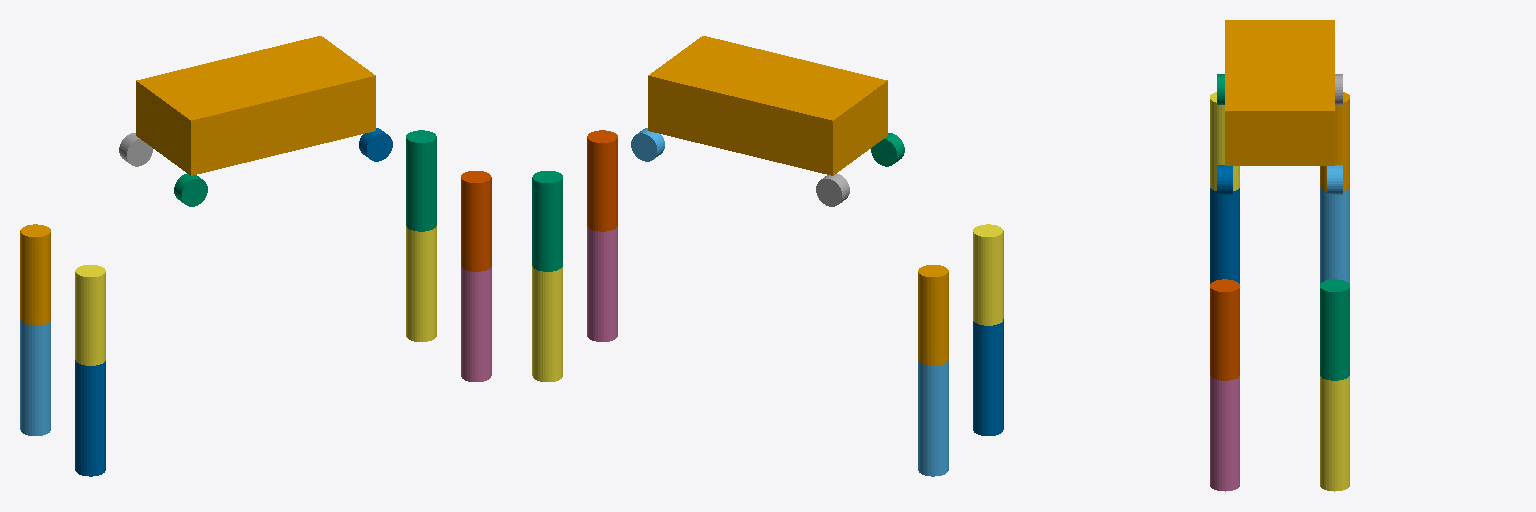
The robot description file, URDF, robot "bigironhorse":
<?xml version="1.0" ?>
<robot name="bigironhorse" xmlns:xacro="http://ros.org/wiki/xacro">



    <!--!!!!!!!!!!!!!!!!!!BODY!!!!!!!!!!!!!!!!!!!!!!!!!!!!!!!-->
    <link name="body">
        <inertial>
            <mass value="70"/>
            <origin xyz="0.0 0.0 0.0"/>
            <inertia ixx="0.11253" ixy="0" ixz="0" iyy="0.36203" iyz="0" izz="0.42673"/>
        </inertial>
        <visual>
            <geometry>
                <!--mesh filename="meshes/mini_body.obj"/!!!-->
                <box size="0.7 0.36 0.2"/>
            </geometry>
            <origin rpy="0.0 0.0 0.0" xyz="0.0 0.0 0.0"/>
        </visual>

    </link>



    <!--!!!!!!!!!!!! Front Left Leg !!!!!!!!!!!!!!!!!!!!!!!!!!!!!!!!!!!!-->
    <joint name="torso_to_abduct_fl_j" type="continuous">
        <axis xyz="1 0 0"/>
        <origin rpy="0 0 0" xyz="0.35 0.18 -0.15"/>
        <parent link="body"/>
        <child link="abduct_fl"/>
        <limit effort="18" lower="-1.6" upper="1.6" velocity="40"/>
    </joint>
    <link name="abduct_fl">
        <inertial>
            <mass value="1.5"/>
            <origin xyz="0.0 0.0 0."/>
            <inertia ixx="0.000381" ixy="0.000058" ixz="0.00000045" 
                iyy="0.000560" iyz="0.00000095" izz="0.000444"/>
        </inertial>
        <visual>
            <geometry>
                <cylinder length ="0.05" radius = "0.05"/>
            </geometry>
            <origin rpy="0. 1.5708 -1.5708" xyz="0.0 0.0 0.0"/>
        </visual>
        
    </link>

    <joint name="abduct_fl_to_thigh_fl_j" type="continuous">
        <axis xyz="0 -1 0"/>
        <origin rpy="0.0 0.0 0.0" xyz="0.38 0.00 -0.205"/>
        <parent link="abduct_fl"/>
        <child link="thigh_fl"/>
        <limit effort="18" lower="-2.6" upper="2.6" velocity="40"/>
    </joint>
    <link name="thigh_fl">
        <inertial>
            <mass value="1.5"/>
            <origin xyz="0.0 0.00 -0.16"/>
            <inertia ixx="0.001983" ixy="0.000245" ixz="0.000013" 
                iyy="0.002103" iyz="0.0000015" izz="0.000508"/>
        </inertial>
        <visual>
            <geometry>
                <cylinder length ="0.32" radius = "0.05"/>
            </geometry>
            <origin rpy="0.0 0.0 0.0" xyz="0.0 0.0 -0.16"/>
        </visual>
        
    </link>

    <joint name="thigh_fl_to_knee_fl_j" type="continuous">
        <axis xyz="0 -1 0"/>
        <origin rpy="0.0 0 0.0" xyz="0.0 0.0 -0.32"/>
        <parent link="thigh_fl"/>
        <child link="shank_fl"/>
        <limit effort="26" lower="-2.6" upper="2.6" velocity="26"/>
    </joint>
    <link name="shank_fl">
        <inertial>
            <mass value="1.5"/>
            <origin xyz="0.0 0.0 -0.2"/>
            <inertia ixx="0.000245" ixy="0" ixz="0.0" iyy="0.000248" iyz="0" izz="0.000006"/>
        </inertial>
        <visual>
            <geometry>
                <cylinder length ="0.4" radius = "0.05"/>
            </geometry>
            <origin rpy="0.0 3.141592 0.0" xyz="0.0 0.0 -0.2"/>
        </visual>
       
    </link>




    <!--!!!!!!!!!!!! Front Right Leg !!!!!!!!!!!!!!!!!!!!!!!!!!!!!!!!!!!!-->

    <!--!!!!Joint!!!!!!!!!!!!-->
    <joint name="torso_to_abduct_fr_j" type="continuous">
        <axis xyz="1 0 0"/>
        <origin rpy="0 0 0" xyz="0.35 -0.18 -0.15"/>
        <parent link="body"/>
        <child link="abduct_fr"/>
        <limit effort="18" lower="-1.6" upper="1.6" velocity="40"/>
    </joint>
    <link name="abduct_fr">
        <inertial>
            <mass value="1.5"/>
            <origin xyz="0.0 0.0 0."/>
            <inertia ixx="0.000381" ixy="0.000058" ixz="0.00000045" 
                iyy="0.000560" iyz="0.00000095" izz="0.000444"/>
        </inertial>
        <visual>
            <geometry>
                <cylinder length ="0.05" radius = "0.05"/>
            </geometry>
            <origin rpy="3.141592 1.5708 1.5708" xyz="0.0 0.0 0.0"/>
        </visual>
       
    </link>

    <joint name="abduct_fr_to_thigh_fr_j" type="continuous">
        <axis xyz="0 -1 0"/>
        <origin rpy="0.0 0.0 0.0" xyz="0.38 0.00 -0.205"/>
        <parent link="abduct_fr"/>
        <child link="thigh_fr"/>
        <limit effort="18" lower="-2.6" upper="2.6" velocity="40"/>
    </joint>
    <link name="thigh_fr">
        <inertial>
            <mass value="1.5"/>
            <origin xyz="0.0 0.0 -0.16"/>
            <inertia ixx="0.001983" ixy="0.000245" ixz="0.000013" 
                iyy="0.002103" iyz="0.0000015" izz="0.000508"/>
        </inertial>
        <visual>
            <geometry>
                <cylinder length ="0.32" radius = "0.05"/>
            </geometry>
            <origin rpy="0.0 0.0 0.0" xyz="0.0 0.0 -0.16"/>
        </visual>
        
    </link>

    <joint name="thigh_fr_to_knee_fr_j" type="continuous">
        <axis xyz="0 -1 0"/>
        <origin rpy="0.0 0 0.0" xyz="0.0 0.0 -0.32"/>
        <parent link="thigh_fr"/>
        <child link="shank_fr"/>
        <limit effort="26" lower="-2.6" upper="2.6" velocity="26"/>
    </joint>
    <link name="shank_fr">
        <inertial>
            <mass value="1.5"/>
            <origin xyz="0.0 0.0 -0.2"/>
            <inertia ixx="0.000245" ixy="0" ixz="0.0" iyy="0.000248" iyz="0" izz="0.000006"/>
        </inertial>
        <visual>
            <geometry>
                <cylinder length ="0.4" radius = "0.05"/>
            </geometry>
            <origin rpy="0.0 3.141592 0.0" xyz="0.0 0.0 -0.2"/>
        </visual>
        
    </link>





    <!--!!!!!!!!!!!! Hind Left Leg !!!!!!!!!!!!!!!!!!!!!!!!!!!!!!!!!!!!-->
    <joint name="torso_to_abduct_hl_j" type="continuous">
        <axis xyz="1 0 0"/>
        <origin rpy="0 0 0" xyz="-0.35 0.18 -0.15"/>
        <parent link="body"/>
        <child link="abduct_hl"/>
        <limit effort="18" lower="-1.6" upper="1.6" velocity="40"/>
    </joint>
    <link name="abduct_hl">
        <inertial>
            <mass value="1.5"/>
            <origin xyz="0.0 0.0 0."/>
            <inertia ixx="0.000381" ixy="0.000058" ixz="0.00000045" 
                iyy="0.000560" iyz="0.00000095" izz="0.000444"/>
        </inertial>
        <visual>
            <geometry>
                <cylinder length ="0.05" radius = "0.05"/>
            </geometry>
            <origin rpy="3.141592 1.5708 -1.5708" xyz="0.0 0.0 0.0"/>
        </visual>
        
    </link>

    <joint name="abduct_hl_to_thigh_hl_j" type="continuous">
        <axis xyz="0 -1 0"/>
        <origin rpy="0.0 0.0 0.0" xyz="-0.38 0.00 -0.205"/>
        <parent link="abduct_hl"/>
        <child link="thigh_hl"/>
        <limit effort="18" lower="-2.6" upper="2.6" velocity="40"/>
    </joint>
    <link name="thigh_hl">
        <inertial>
            <mass value="1.5"/>
            <origin xyz="0.0 0.0 -0.16"/>
            <inertia ixx="0.001983" ixy="0.000245" ixz="0.000013" 
                iyy="0.002103" iyz="0.0000015" izz="0.000508"/>
        </inertial>
        <visual>
            <geometry>
                <cylinder length ="0.32" radius = "0.05"/>
            </geometry>
            <origin rpy="0.0 0.0 0.0" xyz="0.0 0.0 -0.16"/>
        </visual>
        
    </link>

    <joint name="thigh_hl_to_knee_hl_j" type="continuous">
        <axis xyz="0 -1 0"/>
        <origin rpy="0.0 0 0.0" xyz="0.0 0.0 -0.32"/>
        <parent link="thigh_hl"/>
        <child link="shank_hl"/>
        <limit effort="26" lower="-2.6" upper="2.6" velocity="26"/>
    </joint>
    <link name="shank_hl">
        <inertial>
            <mass value="1.5"/>
            <origin xyz="0.0 0.0 -0.2"/>
            <inertia ixx="0.000245" ixy="0" ixz="0.0" iyy="0.000248" iyz="0" izz="0.000006"/>
        </inertial>
        <visual>
            <geometry>
                <cylinder length ="0.4" radius = "0.05"/>
            </geometry>
            <origin rpy="0.0 3.141592 0.0" xyz="0.0 0.0 -0.2"/>
        </visual>
        
    </link>



    <!--!!!!!!!!!!!! Hind Right Leg !!!!!!!!!!!!!!!!!!!!!!!!!!!!!!!!!!!!-->
    <joint name="torso_to_abduct_hr_j" type="continuous">
        <axis xyz="1 0 0"/>
        <origin rpy="0 0 0" xyz="-0.35 -0.18 -0.15"/>
        <parent link="body"/>
        <child link="abduct_hr"/>
        <limit effort="18" lower="-1.6" upper="1.6" velocity="40"/>
    </joint>
    <link name="abduct_hr">
        <inertial>
            <mass value="1.5"/>
            <origin xyz="0.0 0.0 0."/>
            <inertia ixx="0.000381" ixy="0.000058" ixz="0.00000045" 
                iyy="0.000560" iyz="0.00000095" izz="0.000444"/>
        </inertial>
        <visual>
            <geometry>
                <cylinder length ="0.05" radius = "0.05"/>
            </geometry>
            <!--origin rpy="0.0 0.0 1.5708" xyz="0.055 0.0 0.0"/-->
            <origin rpy="0.0 1.5708 1.5708" xyz="0.0 0.0 0.0"/>
        </visual>
        
    </link>

    <joint name="abduct_hr_to_thigh_hr_j" type="continuous">
        <axis xyz="0 -1 0"/>
        <origin rpy="0.0 0.0 0.0" xyz="-0.38 0.00 -0.205"/>
        <parent link="abduct_hr"/>
        <child link="thigh_hr"/>
        <limit effort="18" lower="-2.6" upper="2.6" velocity="40"/>
    </joint>
    <link name="thigh_hr">
        <inertial>
            <mass value="1.5"/>
            <origin xyz="0.0 0.0 -0.16"/>
            <inertia ixx="0.001983" ixy="0.000245" ixz="0.000013" 
                iyy="0.002103" iyz="0.0000015" izz="0.000508"/>
        </inertial>
        <visual>
            <geometry>
                <cylinder length ="0.32" radius = "0.05"/>
            </geometry>
            <origin rpy="0.0 0.0 0.0" xyz="0.0 0.0 -0.16"/>
        </visual>
        
    </link>

    <joint name="thigh_hr_to_knee_hr_j" type="continuous">
        <axis xyz="0 -1 0"/>
        <origin rpy="0.0 0 0.0" xyz="0.0 0.0 -0.32"/>
        <parent link="thigh_hr"/>
        <child link="shank_hr"/>
        <limit effort="26" lower="-2.6" upper="2.6" velocity="26"/>
    </joint>
    <link name="shank_hr">
        <inertial>
            <mass value="1.5"/>
            <origin xyz="0.0 0.0 -0.2"/>
            <inertia ixx="0.000245" ixy="0" ixz="0.0" iyy="0.000248" iyz="0" izz="0.000006"/>
        </inertial>
        <visual>
            <geometry>
                <cylinder length ="0.4" radius = "0.05"/>
            </geometry>
            <origin rpy="0.0 3.141592 0.0" xyz="0.0 0.0 -0.2"/>
        </visual>
        

    </link>

    <!-- Add foot links to enable relevent computations, including better collision detection -->
    <joint name="shank_fl_to_foot_fl" type="fixed">
        <parent link="shank_fl"/>
        <child link="LF_FOOT"/>
        <origin rpy="0.0 0.0 0.0" xyz="0.0 0.0 -0.372"/>
    </joint>
    <link name="LF_FOOT">
        <collision>
            <geometry>
                <sphere radius = "0.0175"/>
            </geometry>
            <origin rpy="0.0 0.0 0.0" xyz="0.0 0.0 0.0"/>
        </collision>
        <visual>
            <geometry>
                <sphere radius = "0.0175"/>
            </geometry>
            <origin rpy="0.0 0.0 0.0" xyz="0.0 0.0 0.0"/>
        </visual>
    </link>

    <joint name="shank_fr_to_foot_fr" type="fixed">
        <parent link="shank_fr"/>
        <child link="RF_FOOT"/>
        <origin rpy="0.0 0.0 0.0" xyz="0.0 0.0 -0.372"/>
    </joint>
    <link name="RF_FOOT">
        <collision>
            <geometry>
                <sphere radius = "0.0175"/>
            </geometry>
            <origin rpy="0.0 0.0 0.0" xyz="0.0 0.0 0.0"/>
        </collision>
        <visual>
            <geometry>
                <sphere radius = "0.0175"/>
            </geometry>
            <origin rpy="0.0 0.0 0.0" xyz="0.0 0.0 0.0"/>
        </visual>
    </link>

    <joint name="shank_hl_to_foot_hl" type="fixed">
        <parent link="shank_hl"/>
        <child link="LH_FOOT"/>
        <origin rpy="0.0 0.0 0.0" xyz="0.0 0.0 -0.372"/>
    </joint>
    <link name="LH_FOOT">
        <collision>
            <geometry>
                <sphere radius = "0.0175"/>
            </geometry>
            <origin rpy="0.0 0.0 0.0" xyz="0.0 0.0 0.0"/>
        </collision>
        <visual>
            <geometry>
                <sphere radius = "0.0175"/>
            </geometry>
            <origin rpy="0.0 0.0 0.0" xyz="0.0 0.0 0.0"/>
        </visual>
    </link>

    <joint name="shank_hr_to_foot_hr" type="fixed">
        <parent link="shank_hr"/>
        <child link="RH_FOOT"/>
        <origin rpy="0.0 0.0 0.0" xyz="0.0 0.0 -0.372"/>
    </joint>
    <link name="RH_FOOT">
        <collision>
            <geometry>
                <sphere radius = "0.0175"/>
            </geometry>
            <origin rpy="0.0 0.0 0.0" xyz="0.0 0.0 0.0"/>
        </collision>
        <visual>
            <geometry>
                <sphere radius = "0.0175"/>
            </geometry>
            <origin rpy="0.0 0.0 0.0" xyz="0.0 0.0 0.0"/>
        </visual>
    </link>

    <!-- Joint Transmissions: Tells Drake that these are actuated -->
    <transmission name="torso_to_abduct_fl_j_transmission">
        <type>transmission_interface/SimpleTransmission</type>
        <joint name="torso_to_abduct_fl_j"/>
        <actuator name="torso_to_abduct_fl_j_actuator"/>
    </transmission>
    <transmission name="abduct_fl_to_thigh_fl_j_transmission">
        <type>transmission_interface/SimpleTransmission</type>
        <joint name="abduct_fl_to_thigh_fl_j"/>
        <actuator name="abduct_fl_to_thigh_fl_j_actuator"/>
    </transmission>
    <transmission name="thigh_fl_to_knee_fl_j_transmission">
        <type>transmission_interface/SimpleTransmission</type>
        <joint name="thigh_fl_to_knee_fl_j"/>
        <actuator name="thigh_fl_to_knee_fl_j_actuator"/>
    </transmission>

    <transmission name="torso_to_abduct_fr_j_transmission">
        <type>transmission_interface/SimpleTransmission</type>
        <joint name="torso_to_abduct_fr_j"/>
        <actuator name="torso_to_abduct_fr_j_actuator"/>
    </transmission>
    <transmission name="abduct_fr_to_thigh_fr_j_transmission">
        <type>transmission_interface/SimpleTransmission</type>
        <joint name="abduct_fr_to_thigh_fr_j"/>
        <actuator name="abduct_fr_to_thigh_fr_j_actuator"/>
    </transmission>
    <transmission name="thigh_fr_to_knee_fr_j_transmission">
        <type>transmission_interface/SimpleTransmission</type>
        <joint name="thigh_fr_to_knee_fr_j"/>
        <actuator name="thigh_fr_to_knee_fr_j_actuator"/>
    </transmission>

    <transmission name="torso_to_abduct_hl_j_transmission">
        <type>transmission_interface/SimpleTransmission</type>
        <joint name="torso_to_abduct_hl_j"/>
        <actuator name="torso_to_abduct_hl_j_actuator"/>
    </transmission>
    <transmission name="abduct_hl_to_thigh_hl_j_transmission">
        <type>transmission_interface/SimpleTransmission</type>
        <joint name="abduct_hl_to_thigh_hl_j"/>
        <actuator name="abduct_hl_to_thigh_hl_j_actuator"/>
    </transmission>
    <transmission name="thigh_hl_to_knee_hl_j_transmission">
        <type>transmission_interface/SimpleTransmission</type>
        <joint name="thigh_hl_to_knee_hl_j"/>
        <actuator name="thigh_hl_to_knee_hl_j_actuator"/>
    </transmission>

    <transmission name="torso_to_abduct_hr_j_transmission">
        <type>transmission_interface/SimpleTransmission</type>
        <joint name="torso_to_abduct_hr_j"/>
        <actuator name="torso_to_abduct_hr_j_actuator"/>
    </transmission>
    <transmission name="abduct_hr_to_thigh_hr_j_transmission">
        <type>transmission_interface/SimpleTransmission</type>
        <joint name="abduct_hr_to_thigh_hr_j"/>
        <actuator name="abduct_hr_to_thigh_hr_j_actuator"/>
    </transmission>
    <transmission name="thigh_hr_to_knee_hr_j_transmission">
        <type>transmission_interface/SimpleTransmission</type>
        <joint name="thigh_hr_to_knee_hr_j"/>
        <actuator name="thigh_hr_to_knee_hr_j_actuator"/>
    </transmission>


</robot>

--- Facts derived from the render (not from the file) ---
3 views of the same robot in one strip: view 1: azimuth 30°, elevation 25°; view 2: azimuth 150°, elevation 25°; view 3: azimuth 270°, elevation 25° (orthographic).
Robot: bigironhorse — 17 links, 16 joints (12 continuous, 4 fixed); root link body; default pose: all joints at 0.
Links seen in each view (by area): view 1: body, shank_hr, shank_fl, shank_hl, shank_fr, thigh_fl, thigh_hl, thigh_fr, thigh_hr, abduct_hr, abduct_fr, abduct_hl; view 2: body, shank_hl, shank_fr, shank_hr, shank_fl, thigh_fr, thigh_hr, thigh_fl, thigh_hl, abduct_hl, abduct_fl, abduct_hr; view 3: body, shank_fl, shank_fr, thigh_fl, thigh_fr, shank_hl, shank_hr, thigh_hl, thigh_hr.
Boxes of the visible links, x1,y1,x2,y2 form: body: (136, 36, 375, 175); shank_hr: (75, 360, 105, 476); shank_fl: (406, 226, 436, 341); shank_hl: (20, 319, 50, 435); shank_fr: (461, 266, 491, 381); thigh_fl: (406, 130, 436, 231); thigh_hl: (20, 224, 50, 325); thigh_fr: (461, 171, 491, 271); thigh_hr: (75, 265, 105, 365); abduct_hr: (174, 174, 207, 206); abduct_fr: (359, 128, 392, 161); abduct_hl: (119, 133, 152, 166); body: (648, 36, 887, 175); shank_hl: (918, 360, 948, 476); shank_fr: (587, 226, 617, 341); shank_hr: (973, 319, 1003, 435); shank_fl: (532, 266, 562, 381); thigh_fr: (587, 130, 617, 231); thigh_hr: (973, 224, 1003, 325); thigh_fl: (532, 171, 562, 271); thigh_hl: (918, 265, 948, 365); abduct_hl: (816, 174, 849, 206); abduct_fl: (631, 128, 664, 161); abduct_hr: (871, 133, 904, 166); body: (1225, 20, 1334, 165); shank_fl: (1320, 376, 1349, 491); shank_fr: (1210, 376, 1239, 491); thigh_fl: (1320, 279, 1349, 380); thigh_fr: (1210, 279, 1239, 380); shank_hl: (1320, 188, 1349, 283); shank_hr: (1210, 188, 1239, 283); thigh_hl: (1320, 92, 1349, 190); thigh_hr: (1210, 92, 1239, 190).
Bounding box of the posed robot: 1.56 × 0.46 × 1.18 m (x, y, z).
Geometry: primitives only (box / cylinder / sphere), no mesh files.